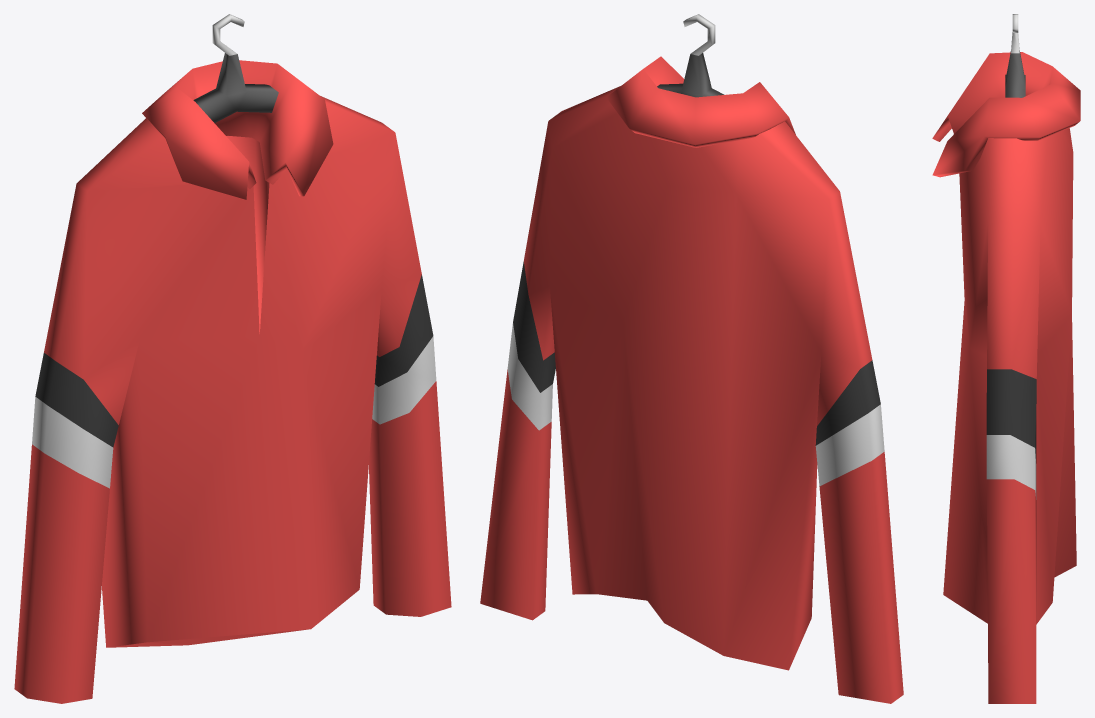
The model's file is Ropa.obj.
3 renders of one model, left to right at view 1: azimuth 30°, elevation 25°; view 2: azimuth 150°, elevation 25°; view 3: azimuth 270°, elevation 25°, orthographic. The views are drawn at different scales.
Visible parts, largest first — view 1: clothes_001; view 2: clothes_001; view 3: clothes_001.
Part boxes in pixels (box(x1,y1,x2,y2)): clothes_001: box(14, 14, 451, 703); clothes_001: box(480, 14, 903, 703); clothes_001: box(932, 14, 1080, 703).
Bounding box in the file's own units: 3.2 × 4.73 × 1.06.
Materials: 1 (1 with a texture image).
